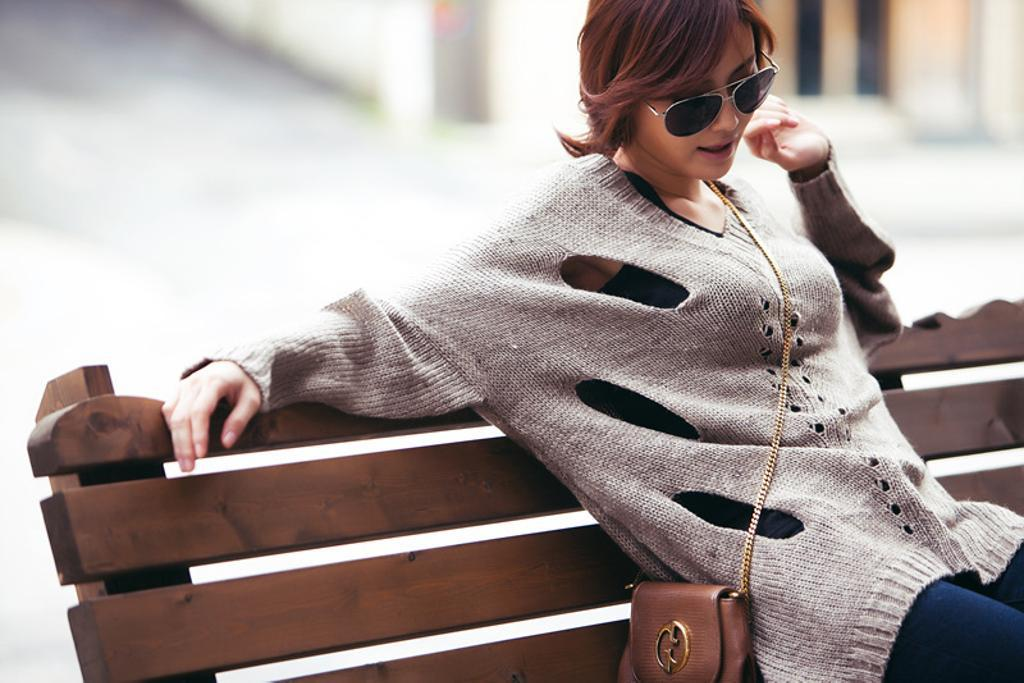face: (631, 27, 757, 177)
